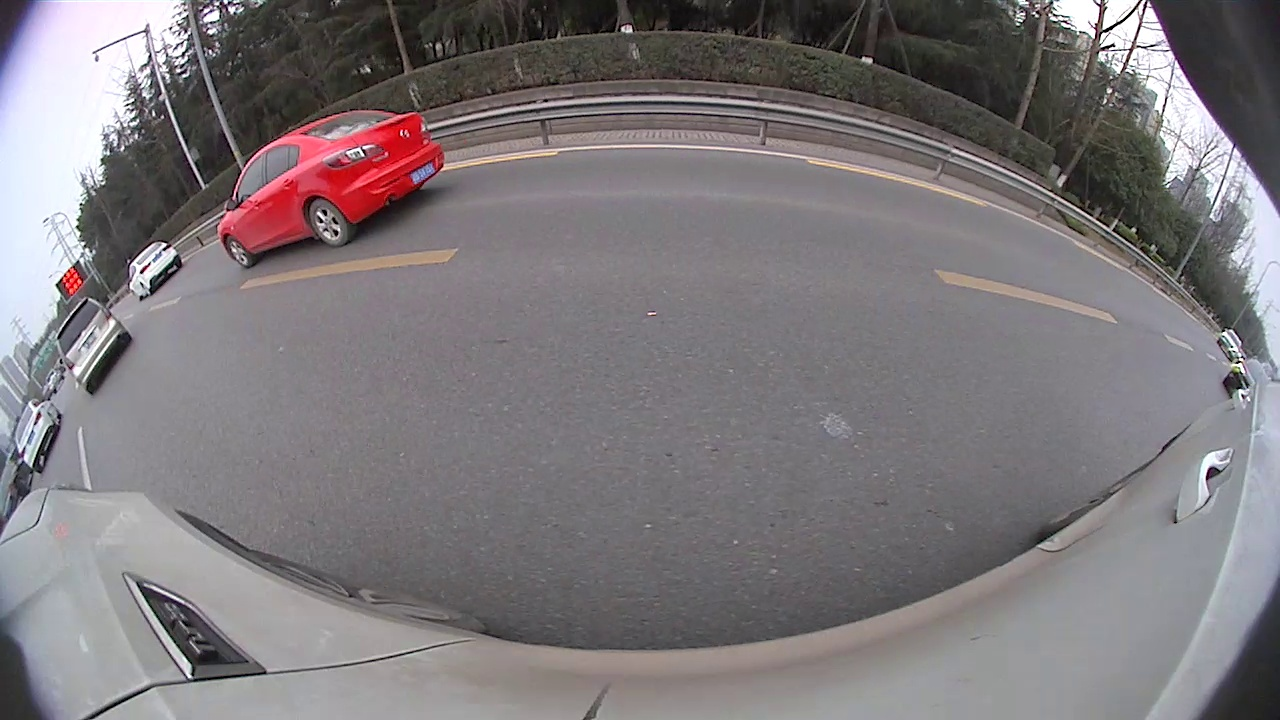bus: (866, 130, 1214, 330)
car: (1, 215, 267, 479), (594, 138, 696, 217), (446, 154, 550, 221), (733, 157, 801, 199)
front: (159, 284, 260, 403), (897, 188, 927, 224), (542, 185, 550, 201)
rear: (1045, 232, 1083, 281), (513, 187, 529, 211)
